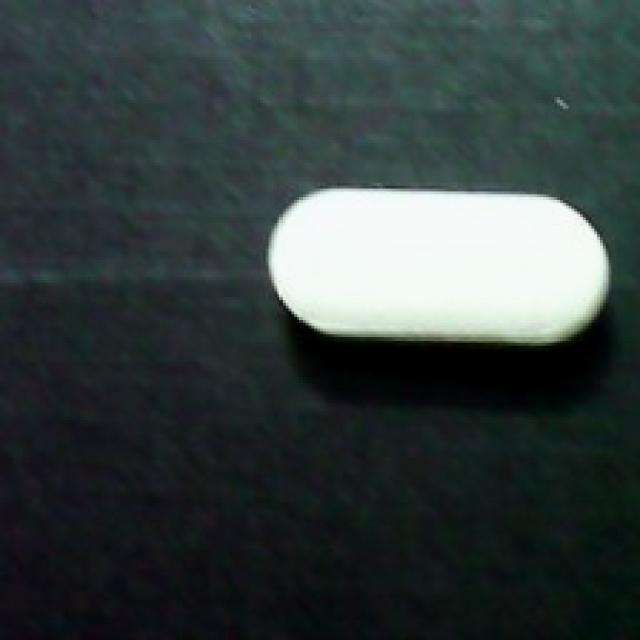no-defect: (257, 177, 623, 360)
